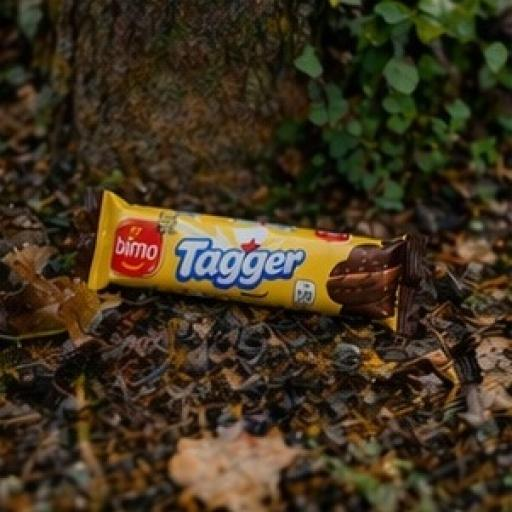tagger: (58, 155, 468, 402)
